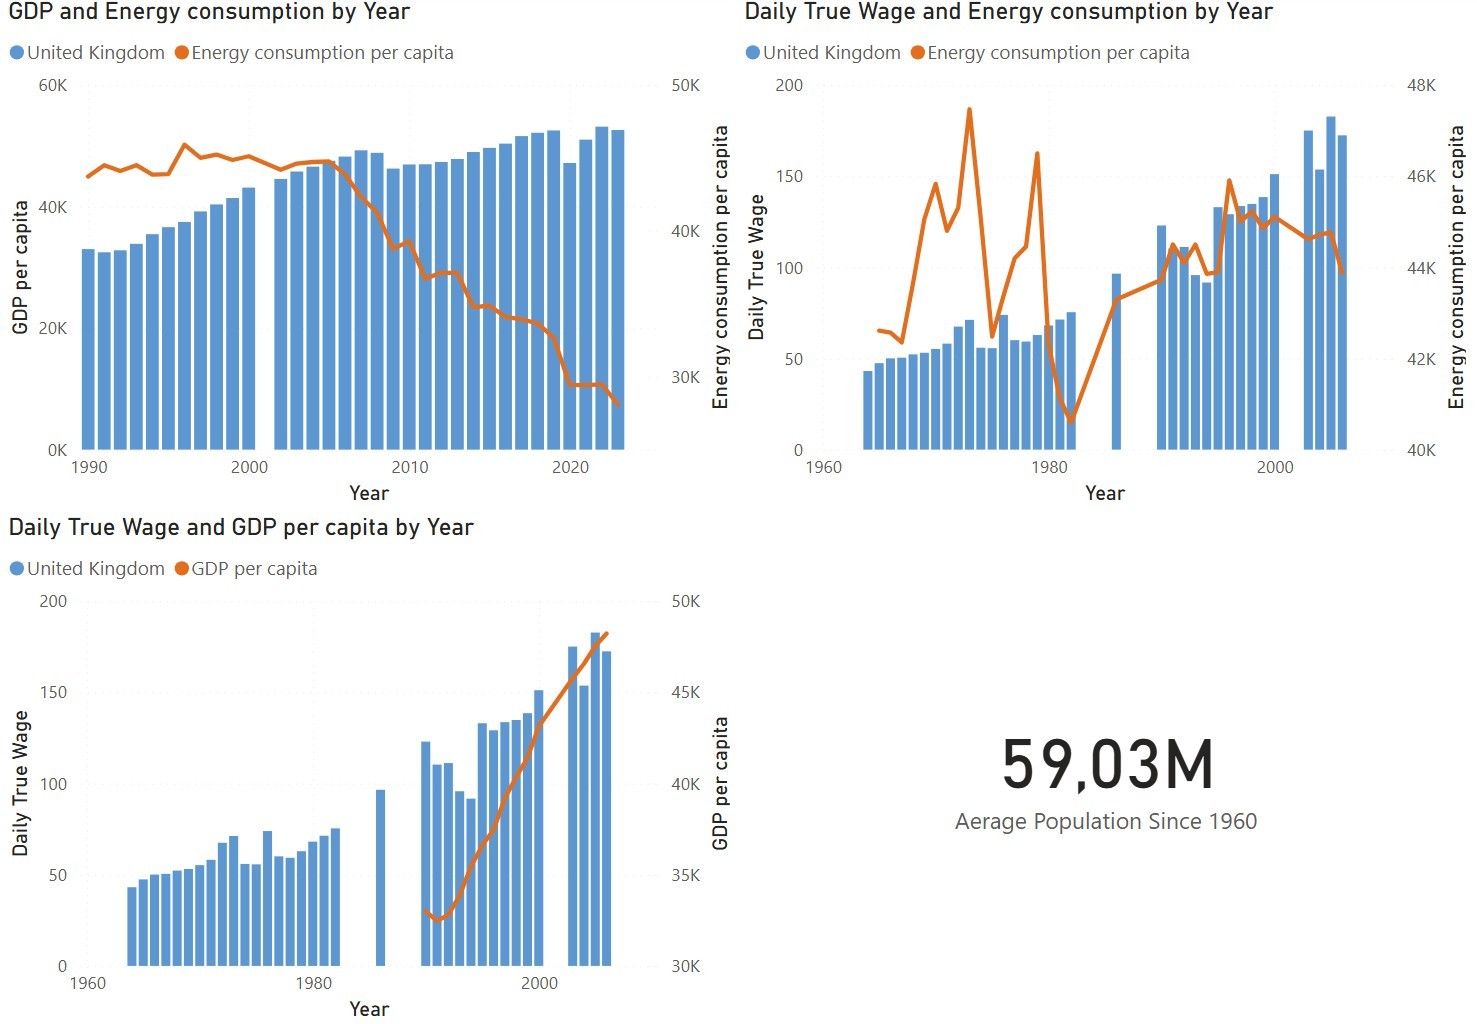

The page's visual inventory and layout, read from the dashboard file:
{"tool":"powerbi","page":{"name":"UK","canvas":[1280,720],"ordinal":4},"visuals":[{"type":"lineStackedColumnComboChart","title":"GDP and Energy consumption by Year","fields":{"Category":["SUMMARY_TABLE.year"],"Series":["SUMMARY_TABLE.country"],"Y":["Sum(SUMMARY_TABLE.gdp_per_capita)"],"Y2":["Sum(SUMMARY_TABLE.per_capita_energy_consumption)"]},"box":[126.8,0,513.1,359.5],"z":0},{"type":"lineStackedColumnComboChart","title":"Daily True Wage and Energy consumption by Year","fields":{"Category":["SUMMARY_TABLE.year"],"Series":["SUMMARY_TABLE.country"],"Y":["Sum(SUMMARY_TABLE.daily_true_wage)"],"Y2":["Sum(SUMMARY_TABLE.per_capita_energy_consumption)"]},"box":[639.9,0,513.1,359.5],"z":1000},{"type":"lineStackedColumnComboChart","title":"Daily True Wage and GDP per capita by Year","fields":{"Category":["SUMMARY_TABLE.year"],"Series":["SUMMARY_TABLE.country"],"Y":["Sum(SUMMARY_TABLE.daily_true_wage)"],"Y2":["Sum(SUMMARY_TABLE.gdp_per_capita)"]},"box":[126.5,359.7,513.4,359.7],"z":2000},{"type":"card","fields":{"Values":["SUMMARY_TABLE.Avg Population Post 1959"]},"box":[640.3,359.7,513.2,359.7],"z":3000}]}

Visuals, with their boxes on the page's 1280x720 design canvas (x1, y1, x2, y2). These are canvas units, not pixel positions in the 1477x1024 screenshot, which may show the page scaled, cropped or inside an application window:
"GDP and Energy consumption by Year" lineStackedColumnComboChart: region(127, 0, 640, 360)
"Daily True Wage and Energy consumption by Year" lineStackedColumnComboChart: region(640, 0, 1153, 360)
"Daily True Wage and GDP per capita by Year" lineStackedColumnComboChart: region(126, 360, 640, 719)
card - SUMMARY_TABLE.Avg Population Post 1959: region(640, 360, 1154, 719)
